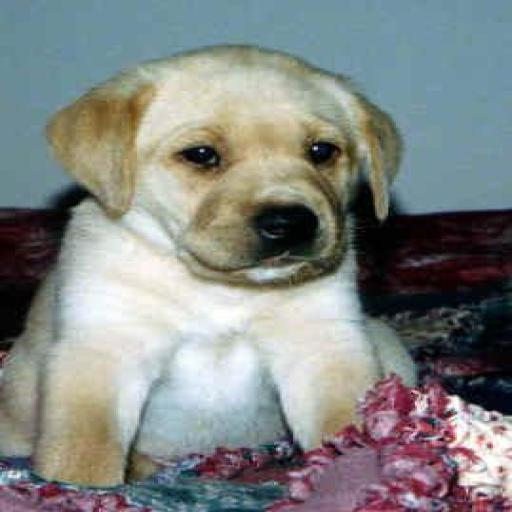dog_face: (41, 46, 406, 295)
